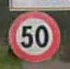limite 50: (7, 10, 62, 62)
